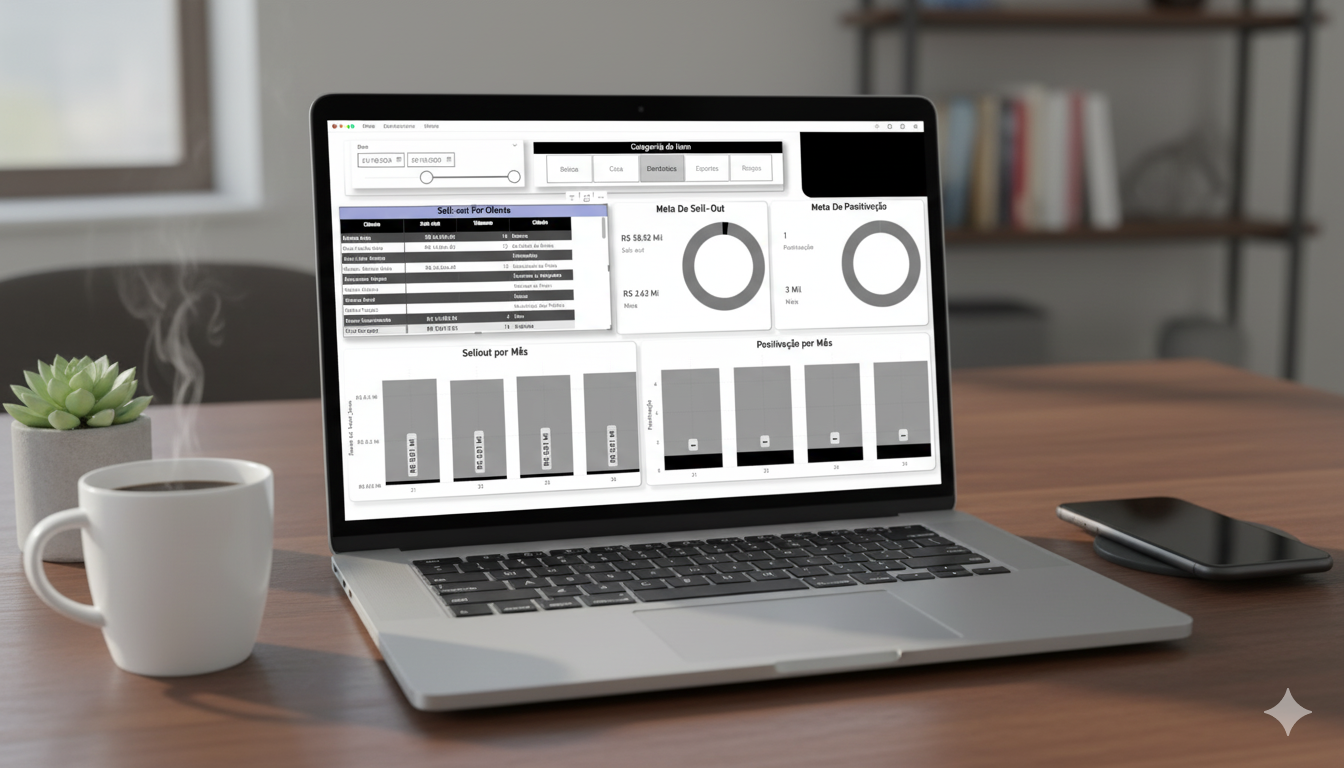

Layout of this report page (visuals, bound fields, positions):
{"tool":"powerbi","page":{"name":"Página 1","canvas":[1280,720],"ordinal":0},"visuals":[{"type":"slicer","fields":{"Values":["Tabela Datas.Date"]},"box":[41.4,11.4,351.4,92.9],"z":0},{"type":"pivotTable","title":"Sell-out Por Cliente","fields":{"Rows":["customers.nome"],"Values":["orders.valor_total","orders.quantidade","customers.cidade"]},"box":[10,140,552.9,252.9],"z":1},{"type":"cardVisual","fields":{"Data":["orders.valor_total","sales_targets.meta_mensal"]},"box":[572,159,174,234],"z":2},{"type":"CircularGauge1458053128559","fields":{"ActualValue":["orders.valor_total"],"TargetValue":["sales_targets.meta_mensal"]},"box":[694.4,165.1,230.3,209.8],"z":3},{"type":"textbox","box":[571.3,135.7,341,33.9],"z":4},{"type":"cardVisual","fields":{"Data":["orders.Positivação","sales_targets.Meta Pos"]},"box":[925.9,159.6,174,234],"z":5},{"type":"CircularGauge1458053128559","fields":{"TargetValue":["sales_targets.Meta Pos"],"ActualValue":["orders.Positivação"]},"box":[1048.4,165.7,230.3,209.8],"z":6},{"type":"textbox","box":[925.2,136.3,341,33.9],"z":7},{"type":"lineStackedColumnComboChart","fields":{"Y":["orders.valor_total"],"Category":["Tabela Datas.Date.Variation.Hierarquia de datas.Dia"]},"box":[10,440,607,262],"z":8},{"type":"lineStackedColumnComboChart","fields":{"Category":["Tabela Datas.Date.Variation.Hierarquia de datas.Dia"],"Y":["orders.Positivação"]},"box":[626,440,641,262],"z":9},{"type":"textbox","box":[190,415,260,34],"z":10},{"type":"textbox","box":[830,415,260,34],"z":11},{"type":"slicer","title":"Categoria de Item","fields":{"Values":["products.categoria"]},"box":[412.9,15.7,534.3,88.6],"z":12}]}

Visuals, with their boxes on the page's 1280x720 design canvas (x1, y1, x2, y2). These are canvas units, not pixel positions in the 1344x768 screenshot, which may show the page scaled, cropped or inside an application window:
slicer - Tabela Datas.Date: (41, 11, 393, 104)
"Sell-out Por Cliente" pivotTable: (10, 140, 563, 393)
cardVisual - orders.valor_total x sales_targets.meta_mensal: (572, 159, 746, 393)
CircularGauge1458053128559 - orders.valor_total x sales_targets.meta_mensal: (694, 165, 925, 375)
textbox: (571, 136, 912, 170)
cardVisual - orders.Positivação x sales_targets.Meta Pos: (926, 160, 1100, 394)
CircularGauge1458053128559 - sales_targets.Meta Pos x orders.Positivação: (1048, 166, 1279, 376)
textbox: (925, 136, 1266, 170)
lineStackedColumnComboChart - orders.valor_total x Tabela Datas.Date.Variation.Hierarquia de datas.Dia: (10, 440, 617, 702)
lineStackedColumnComboChart - Tabela Datas.Date.Variation.Hierarquia de datas.Dia x orders.Positivação: (626, 440, 1267, 702)
textbox: (190, 415, 450, 449)
textbox: (830, 415, 1090, 449)
"Categoria de Item" slicer: (413, 16, 947, 104)
